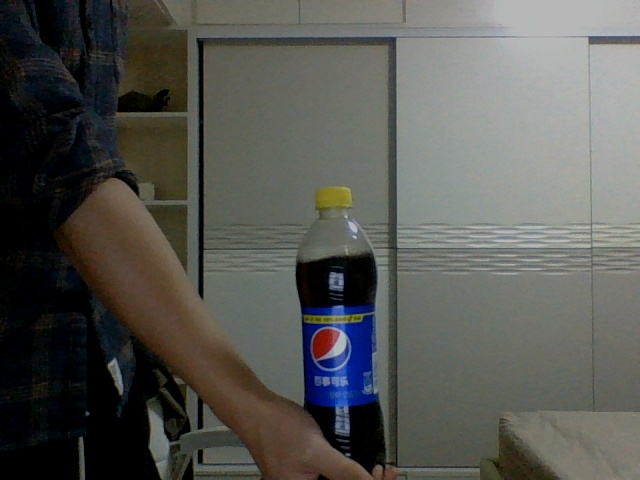Cola: (295, 187, 389, 475)
